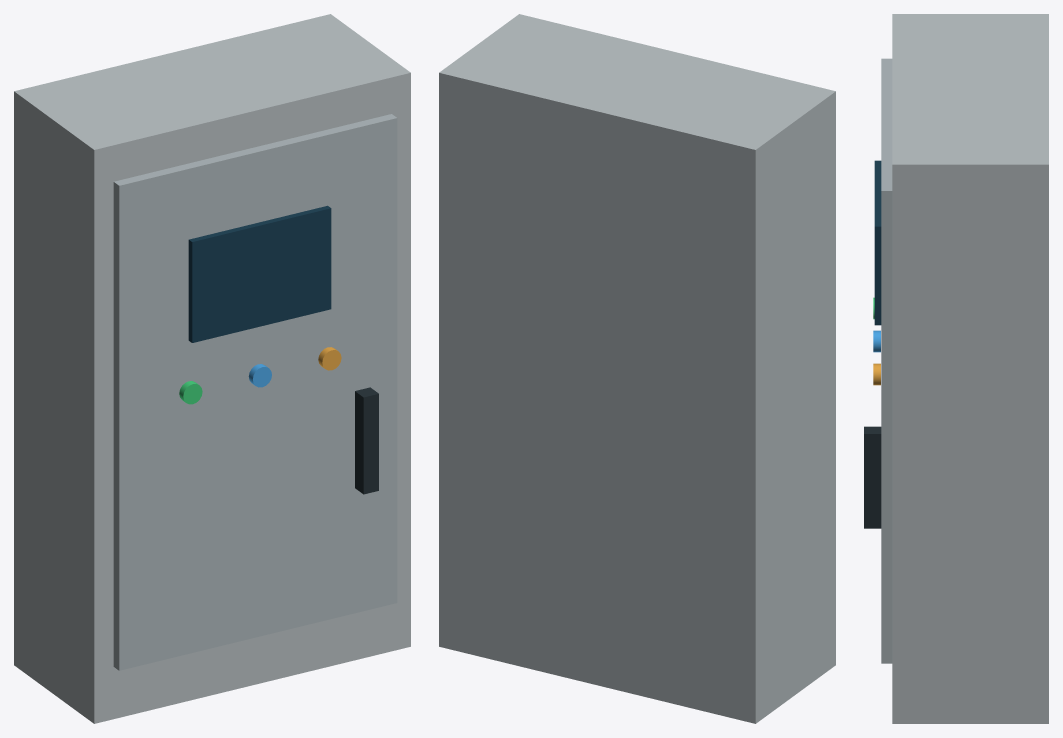
File: automatic-transfer-switch.glb
The picture shows the model from 3 angles, left to right: view 1: azimuth 30°, elevation 25°; view 2: azimuth 150°, elevation 25°; view 3: azimuth 270°, elevation 25°; orthographic projection. The views are drawn at different scales.
Visible parts, largest first — view 1: Front door, ATS enclosure, Controller display, Door handle; view 2: ATS enclosure; view 3: ATS enclosure, Front door, Door handle, Controller display.
Boxes of the visible parts, x1,y1,x2,y2 form: Front door: (113,114,397,670); ATS enclosure: (14,14,410,723); Controller display: (188,205,331,342); Door handle: (355,387,378,494); ATS enclosure: (439,14,835,723); ATS enclosure: (892,14,1048,723); Front door: (881,58,892,663); Door handle: (864,426,881,528); Controller display: (874,160,881,325).
Bounding box in the file's own units: 0.82 × 1.42 × 0.425.
